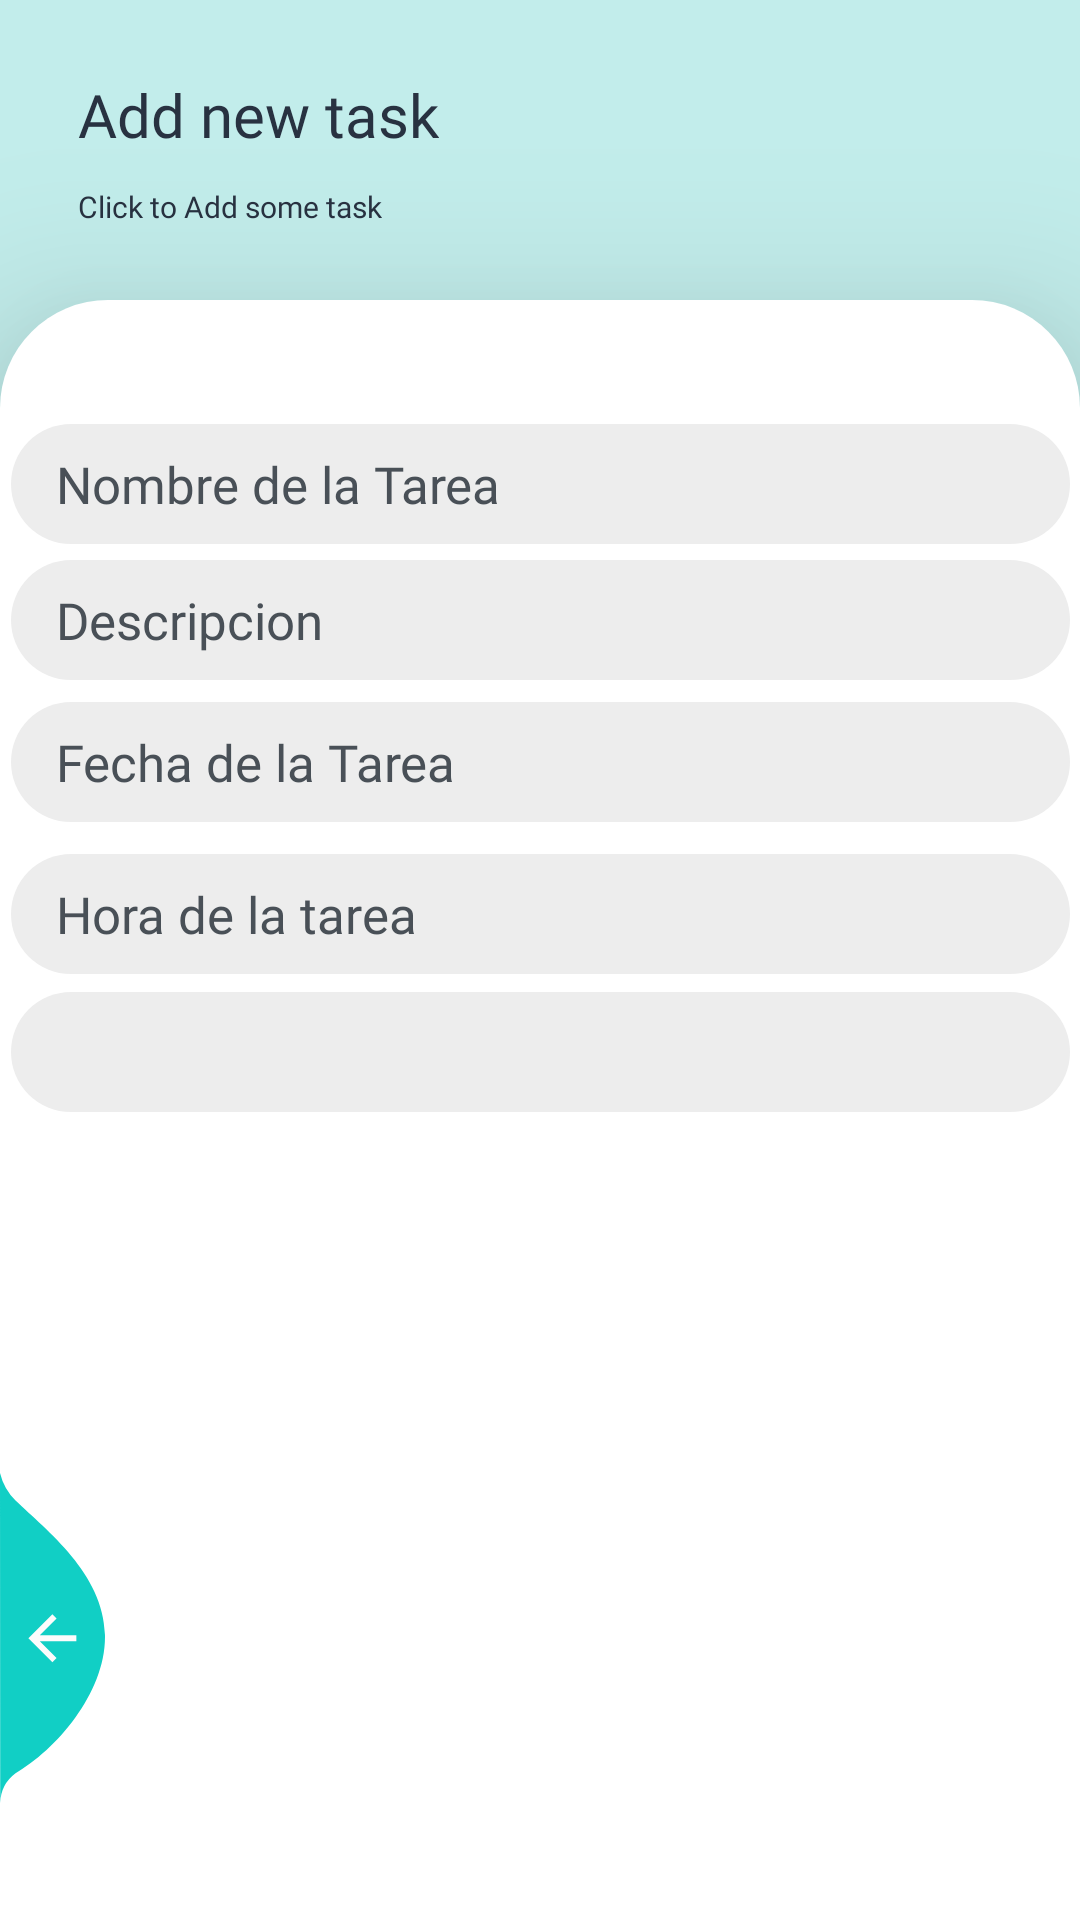

Icon click points for this 1080 × 1920 phone screenshot, format (x=x, y=y):
back: (x=52, y=1637)
